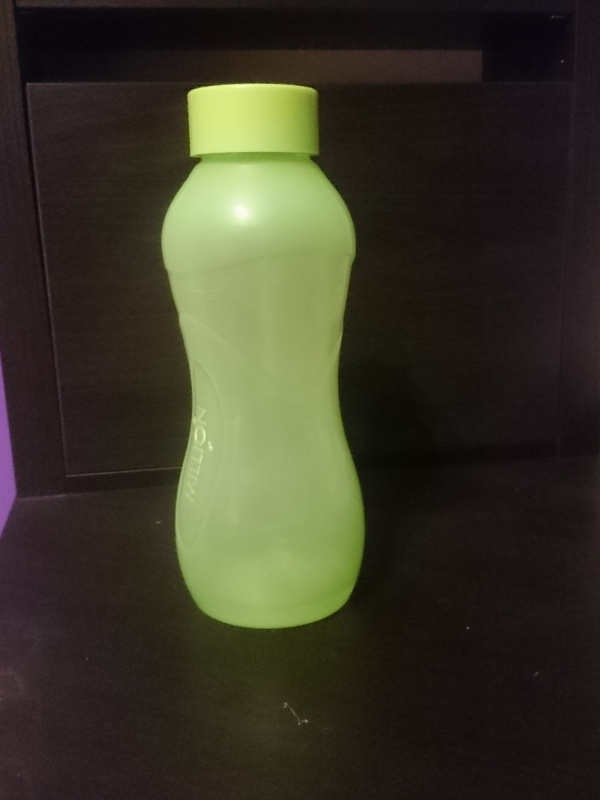my bottle: (162, 82, 362, 628)
